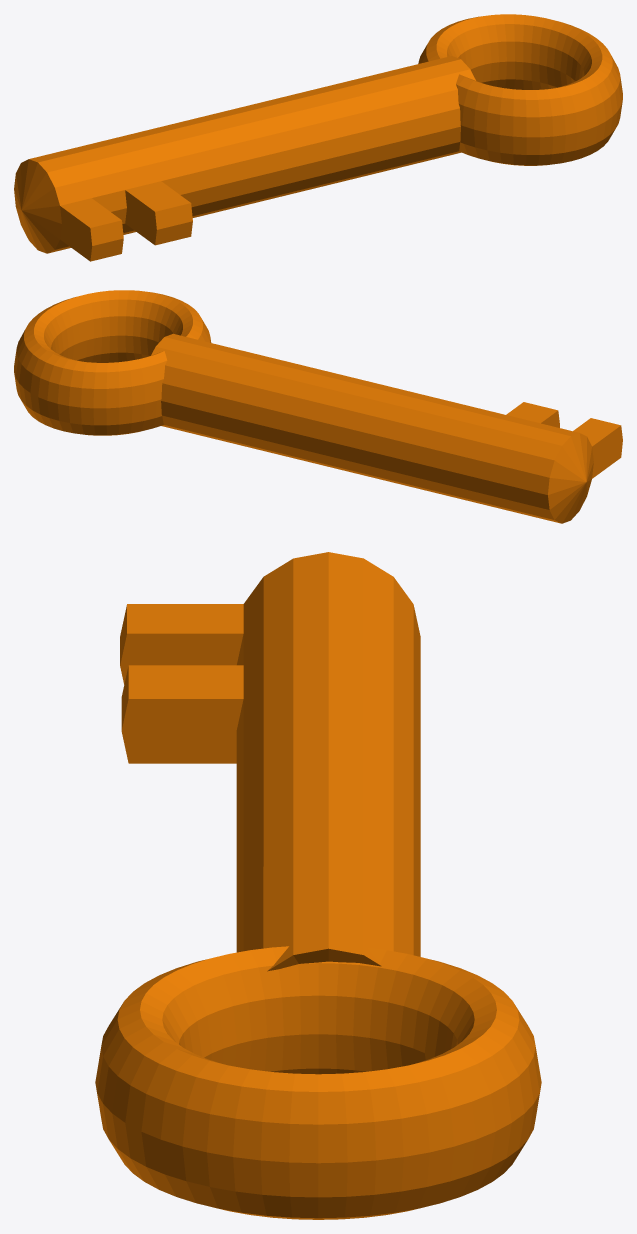
Rendered from GoldKey.fbx.
3 renders of one model, top to bottom at view 1: azimuth 30°, elevation 25°; view 2: azimuth 150°, elevation 25°; view 3: azimuth 270°, elevation 25°, orthographic. The views are drawn at different scales.
Visible parts, largest first — view 1: GoldKey; view 2: GoldKey; view 3: GoldKey.
Boxes of the visible parts, left/top/right/bottom form: GoldKey: left=14, top=14, right=622, bottom=261; GoldKey: left=14, top=290, right=622, bottom=523; GoldKey: left=95, top=552, right=541, bottom=1219.
Size of the model in its own units: 2.25 by 0.3256 by 0.7801.
